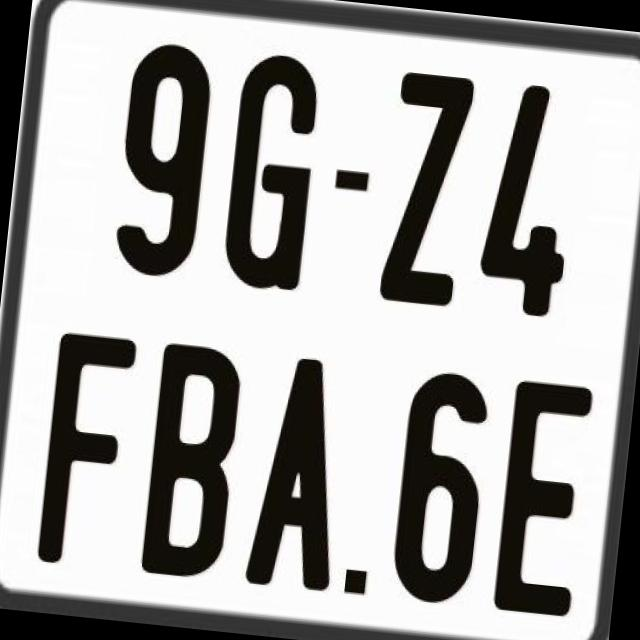4: (474, 78, 580, 322)
6: (384, 368, 495, 611)
9: (110, 38, 222, 280)
A: (240, 350, 348, 595)
B: (136, 338, 241, 586)
E: (491, 379, 596, 625)
F: (32, 328, 142, 566)
G: (218, 48, 321, 298)
Z: (378, 71, 477, 310)
